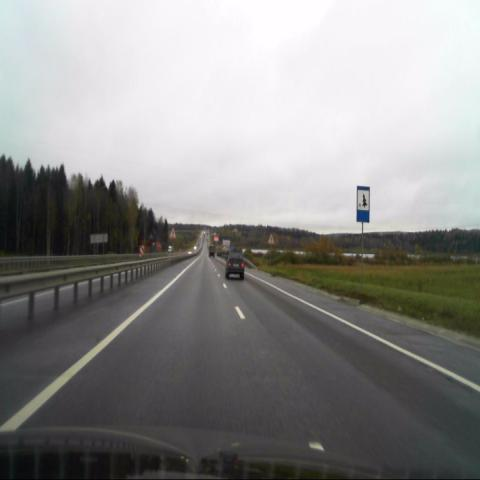7_11: (356, 185, 370, 223)
